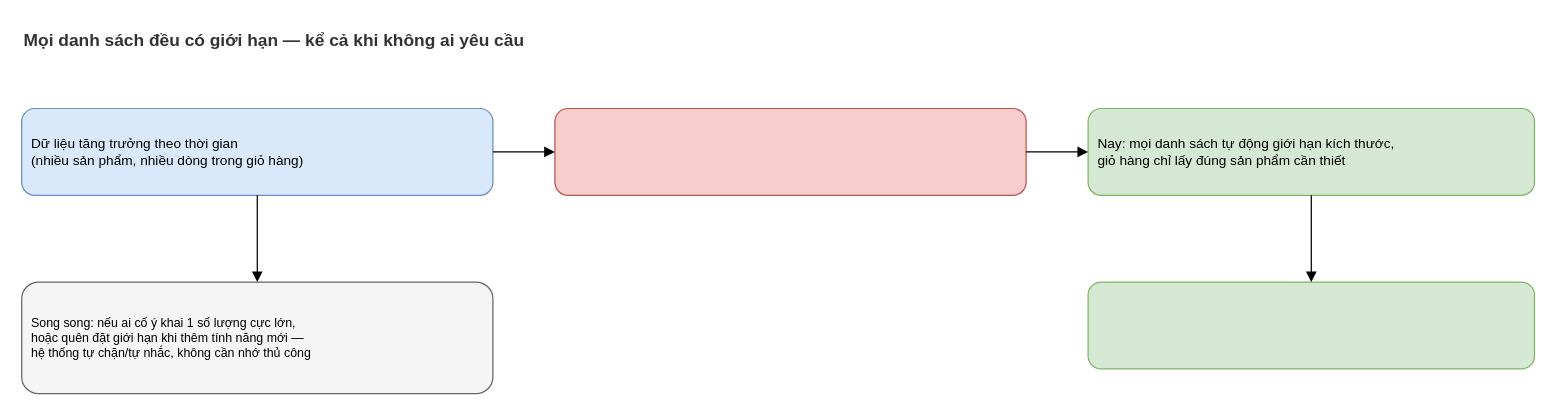
This 1556x415 diagram has some shape labels left out. Each missing label, with the centre of its shape:
Hệ thống ổn định, nhanh, không phụ thuộc vào việc dữ liệu lớn tới đâu: the point at 1310,325
Trước đây: 1 lời gọi đơn giản có thể kéo về TOÀN BỘ dữ liệu, làm chậm hệ thống: the point at 790,151
